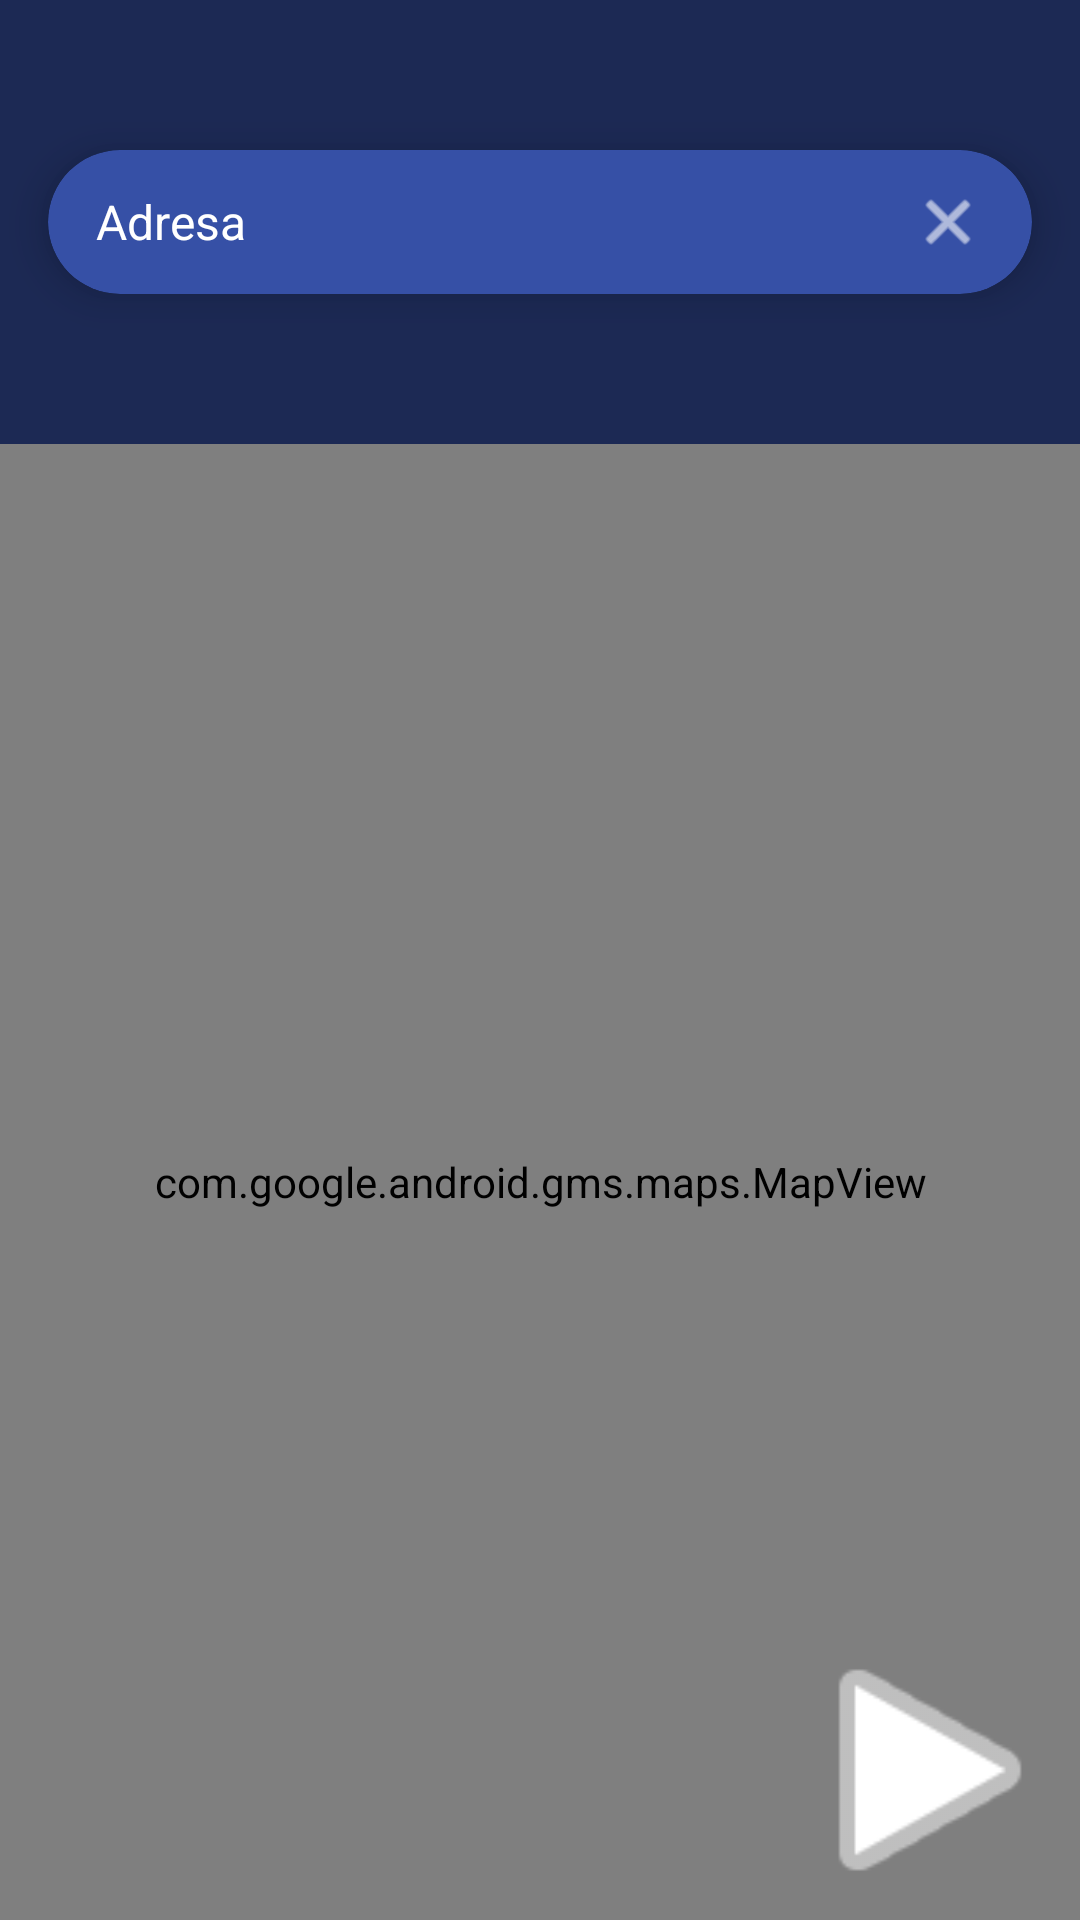

Icons on this 1080w x 1920h Android screen, each with the point to tap as [x,y]:
close clear cancel: [948,222]
play: [930,1770]
